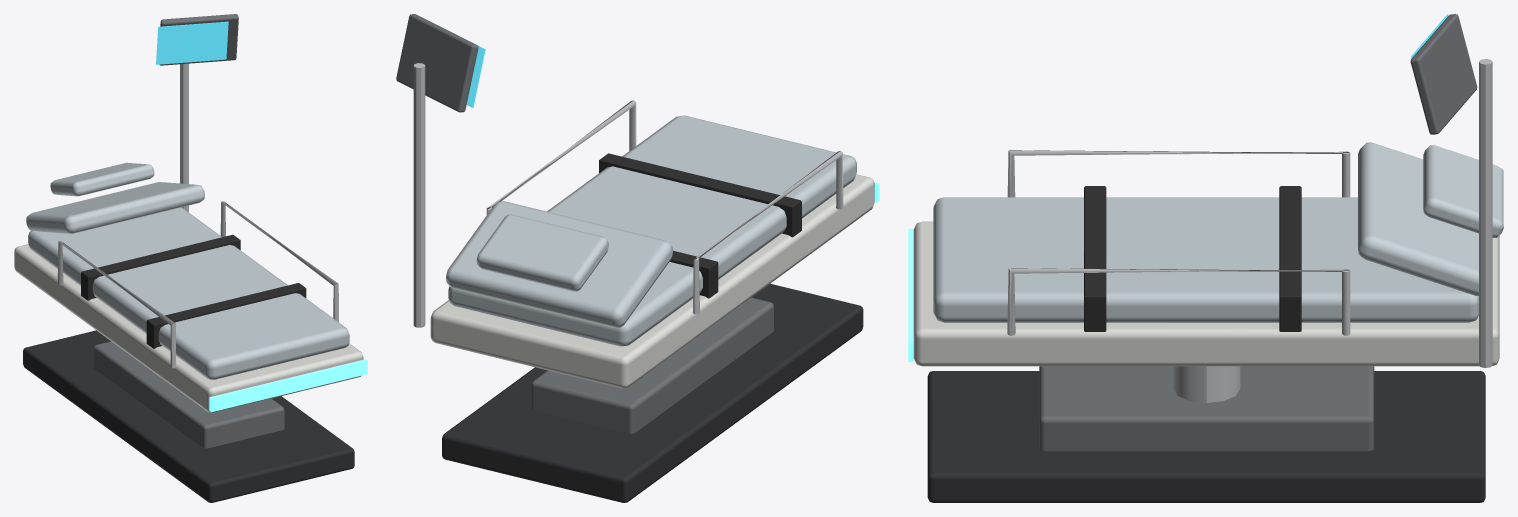
Rendered from med_bed.glb.
3 renders of one model, left to right at view 1: azimuth 30°, elevation 25°; view 2: azimuth 150°, elevation 25°; view 3: azimuth 270°, elevation 25°, orthographic. The views are drawn at different scales.
Parts seen in each view (by area): view 1: med_bed; view 2: med_bed; view 3: med_bed.
Part boxes in pixels (x1,y1,x2,y2): med_bed: (14, 14, 367, 502); med_bed: (396, 14, 879, 502); med_bed: (908, 14, 1503, 502).
Size of the model in its own units: 1.28 by 1.9 by 2.13.
